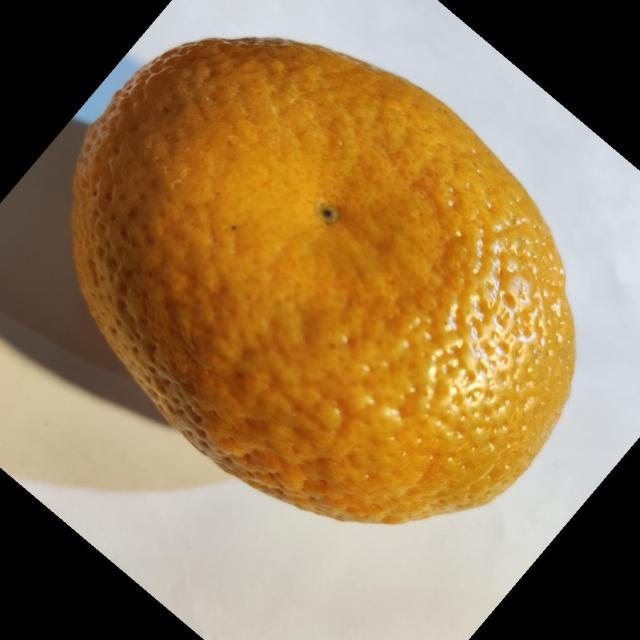agrume: (69, 35, 576, 525)
